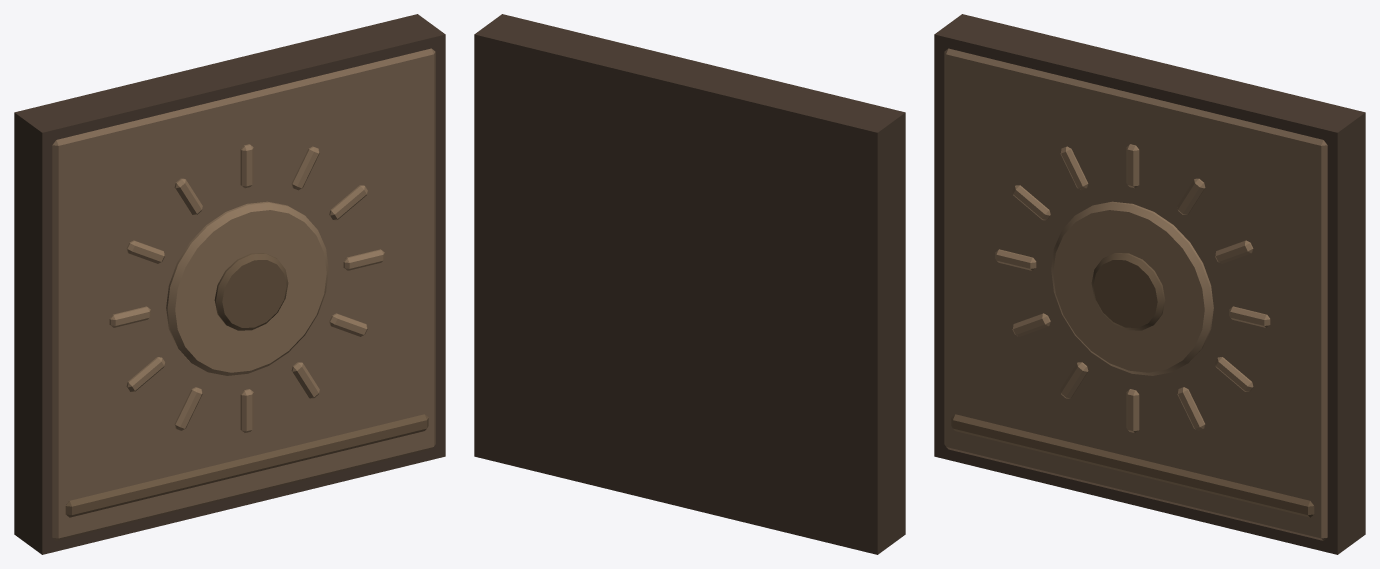
File: back_wall_1.glb
3 renders of one model, left to right at view 1: azimuth 30°, elevation 25°; view 2: azimuth 150°, elevation 25°; view 3: azimuth 330°, elevation 25°, orthographic.
Parts seen in each view (by area): view 1: back_wall_1; view 2: back_wall_1; view 3: back_wall_1.
Boxes of the visible parts, x1=… form: back_wall_1: x1=14, y1=14, x2=445, y2=554; back_wall_1: x1=474, y1=14, x2=905, y2=554; back_wall_1: x1=934, y1=14, x2=1365, y2=554.
Size of the model in its own units: 1 by 1 by 0.165.
